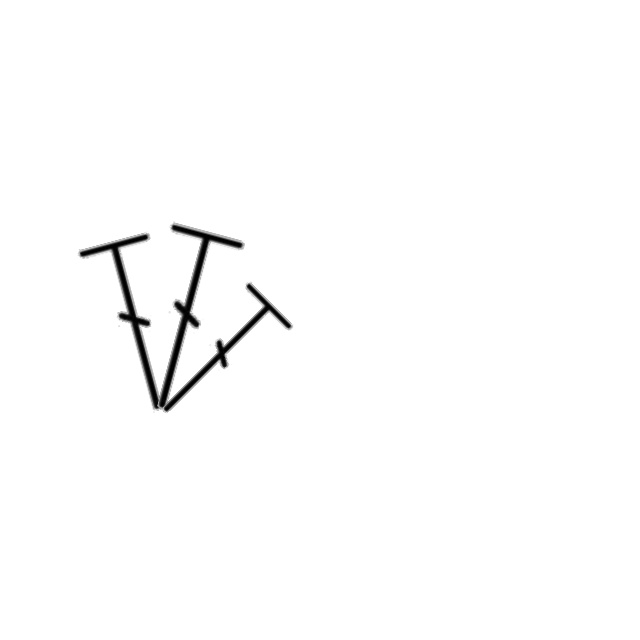double treble: (121, 215, 252, 427), (137, 276, 301, 440), (74, 224, 200, 426)
